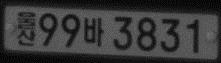1: (186, 17, 200, 55)
3: (112, 14, 133, 51), (159, 17, 180, 52)
8: (135, 15, 157, 52)
9: (60, 12, 80, 48), (38, 11, 58, 46)
바: (82, 15, 105, 47)
울산_V: (16, 10, 37, 47)
